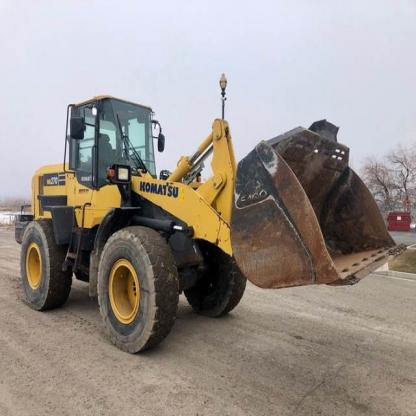bull_dozer/loader/grader: (15, 86, 415, 355)
